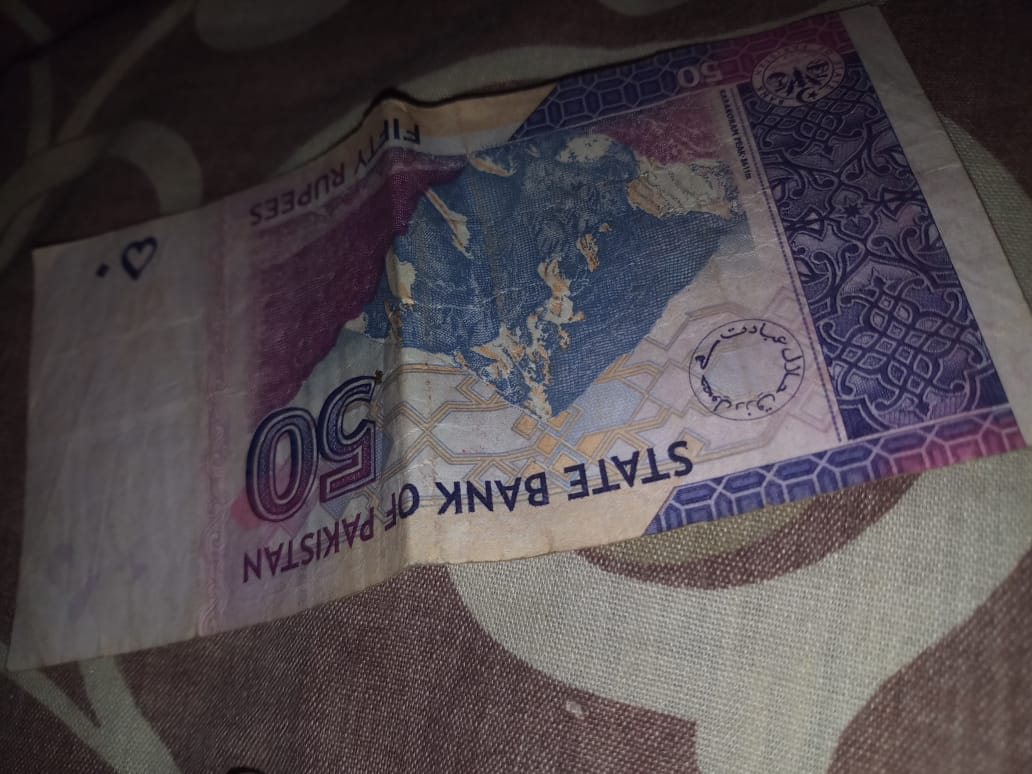50 rupee: (35, 56, 1005, 690)
